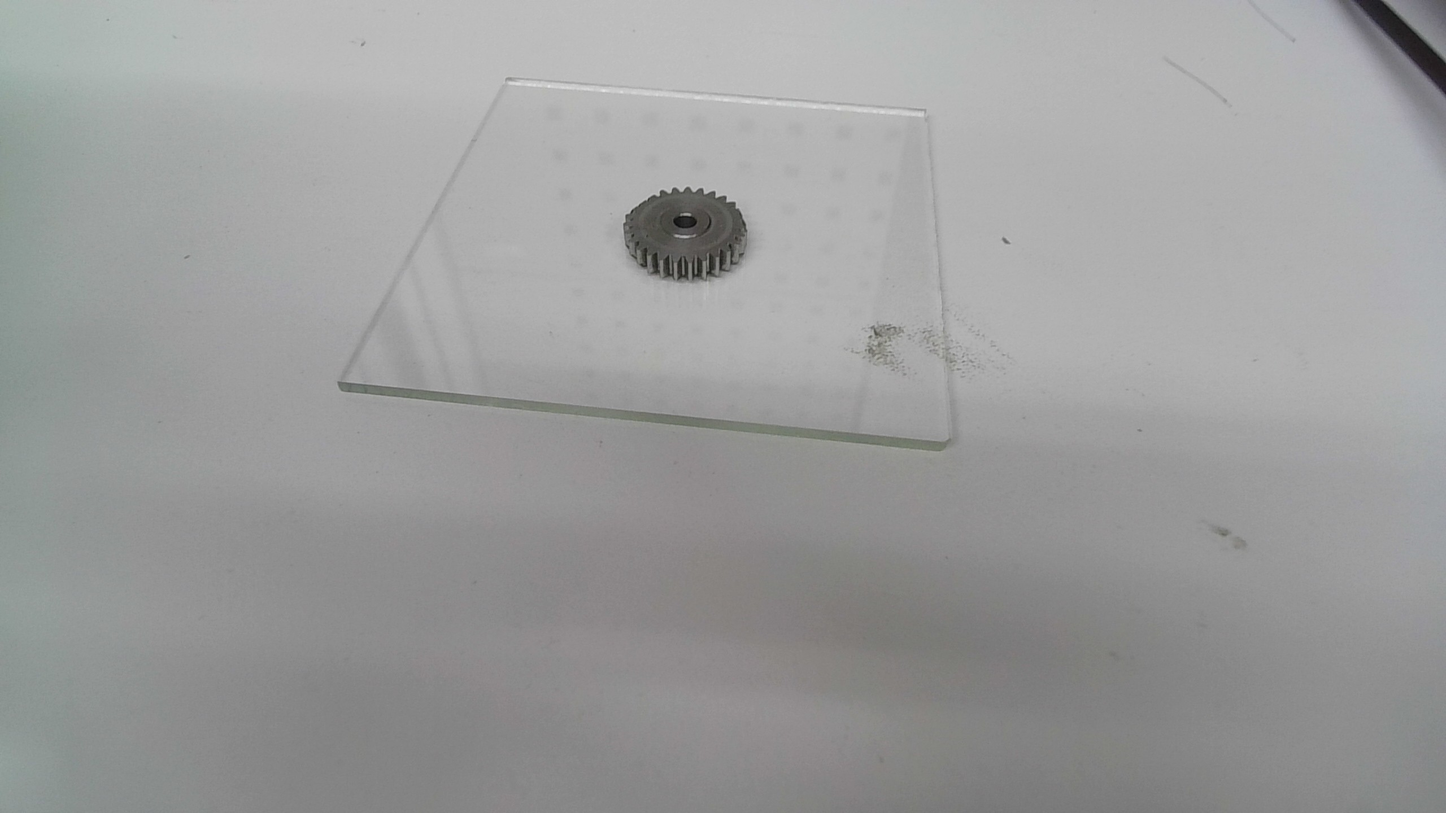gear: (621, 185, 751, 283)
